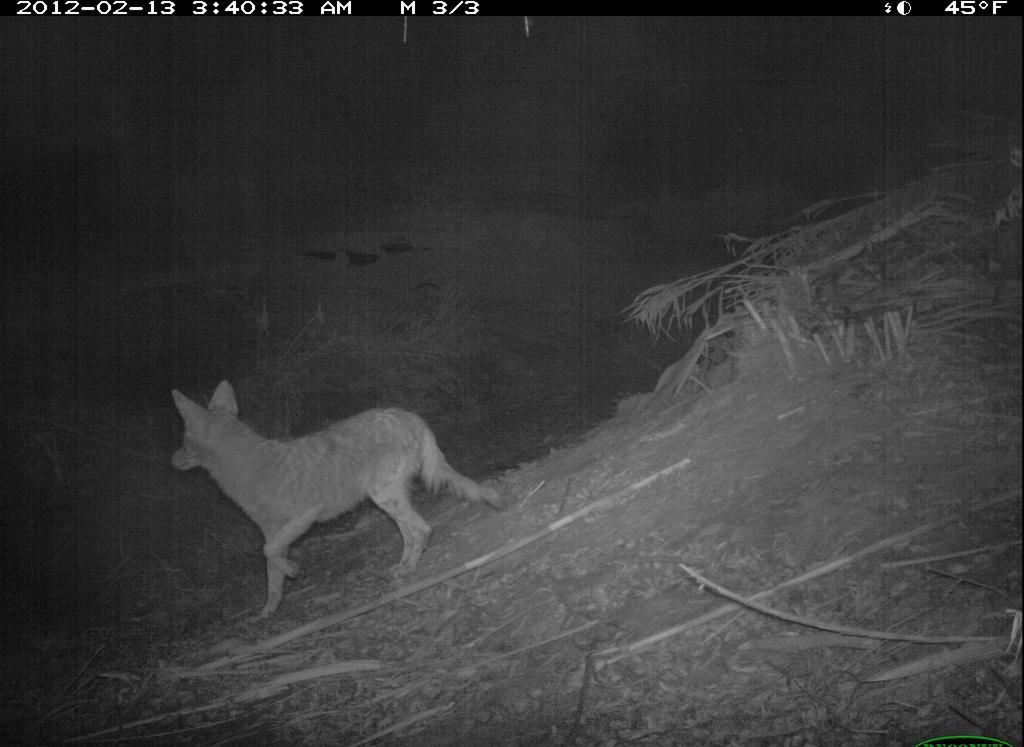coyote: (162, 374, 501, 624)
